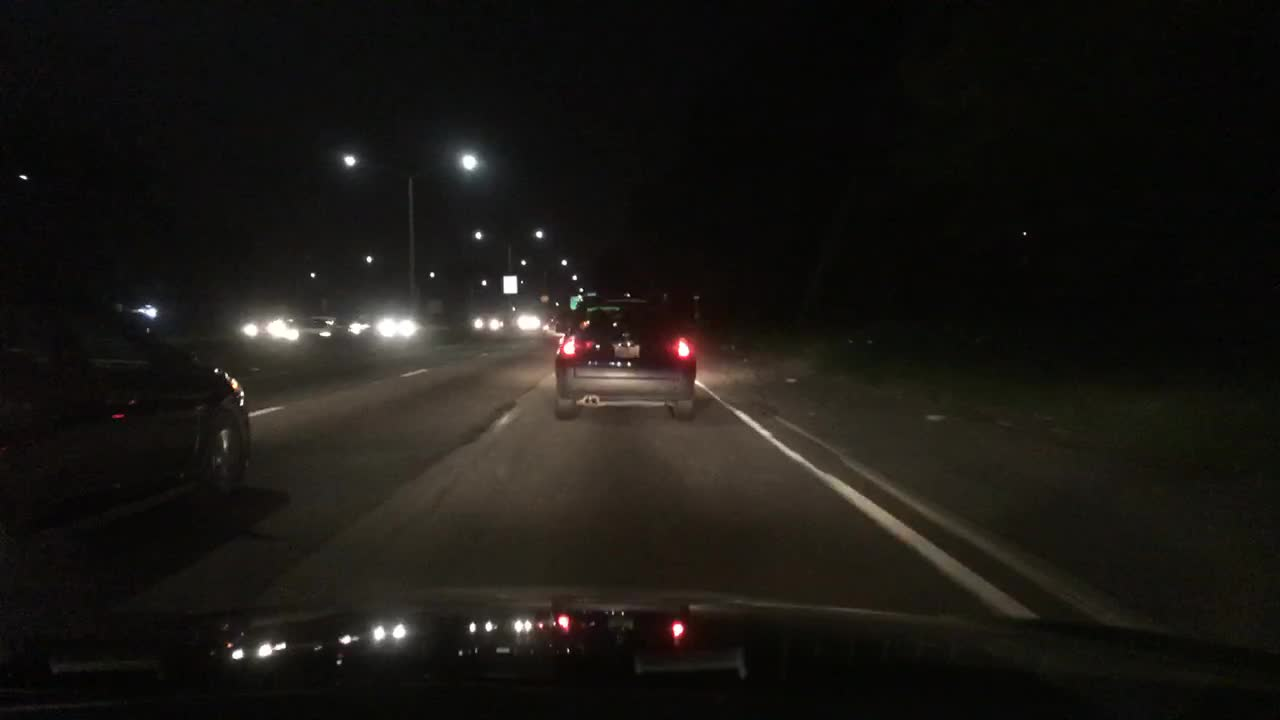car: (0, 296, 250, 550), (556, 298, 696, 417), (290, 313, 344, 341), (237, 311, 291, 338), (374, 316, 424, 339), (341, 316, 383, 340), (471, 311, 504, 334), (516, 310, 544, 331)
traffic sign: (568, 291, 581, 311), (502, 277, 516, 293)
